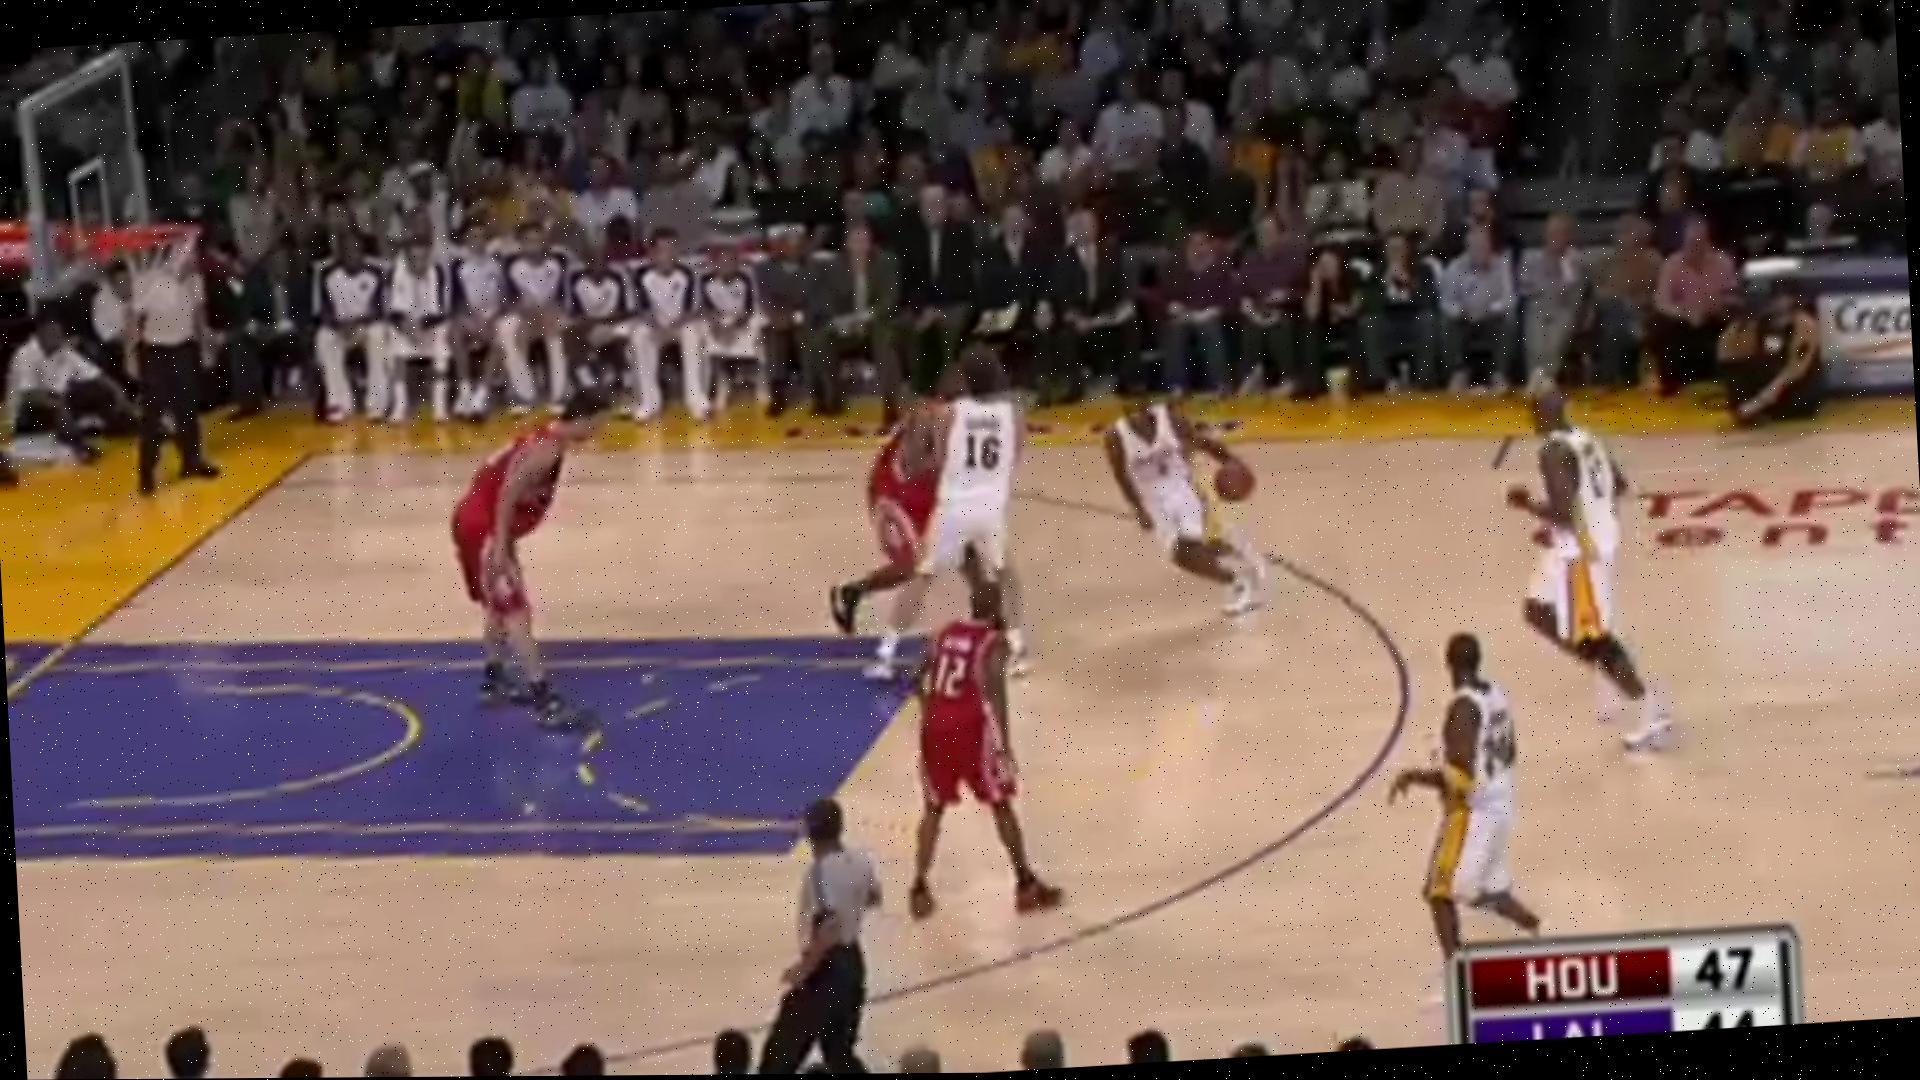no_foul: (872, 343, 1044, 608)
